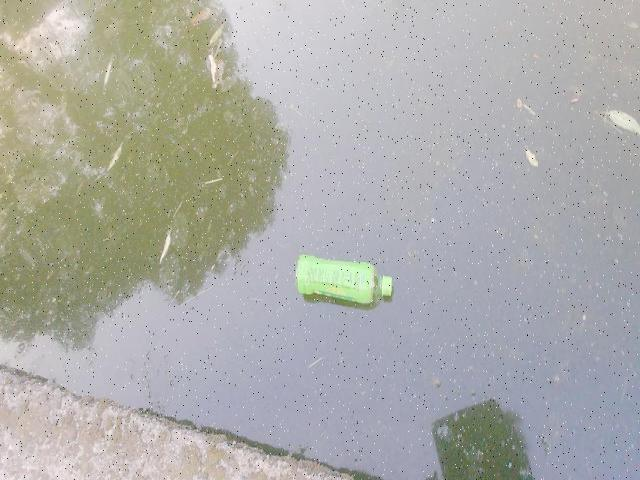Bottle: (286, 252, 402, 314)
